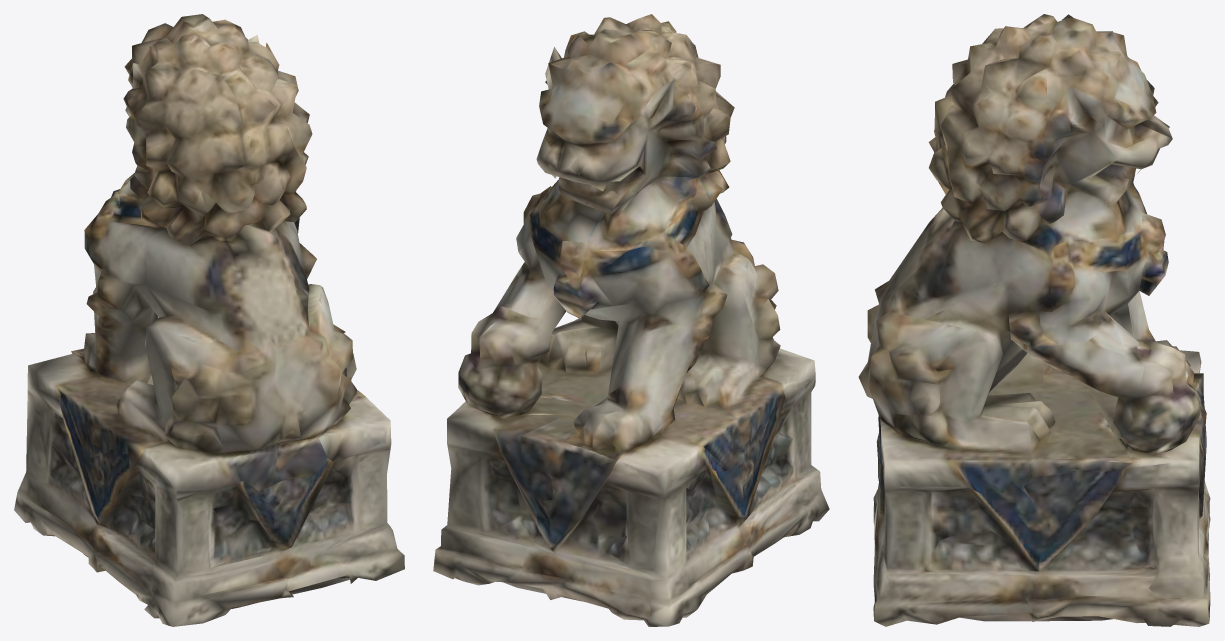
The model's file is stone_lion.lod1.glb.
The picture shows the model from 3 angles, left to right: view 1: azimuth 30°, elevation 25°; view 2: azimuth 150°, elevation 25°; view 3: azimuth 270°, elevation 25°; orthographic projection. The views are drawn at different scales.
Parts seen in each view (by area): view 1: tripo_node_f9142a95-f54f-4469-99b8-091c1ec07bbd; view 2: tripo_node_f9142a95-f54f-4469-99b8-091c1ec07bbd; view 3: tripo_node_f9142a95-f54f-4469-99b8-091c1ec07bbd.
Boxes of the visible parts, x1,y1,x2,y2 form: tripo_node_f9142a95-f54f-4469-99b8-091c1ec07bbd: (14, 14, 404, 626); tripo_node_f9142a95-f54f-4469-99b8-091c1ec07bbd: (433, 14, 829, 626); tripo_node_f9142a95-f54f-4469-99b8-091c1ec07bbd: (858, 14, 1210, 626).
Bounding box in the file's own units: 0.4737 × 0.9996 × 0.5844.
1 material, 1 textured.
